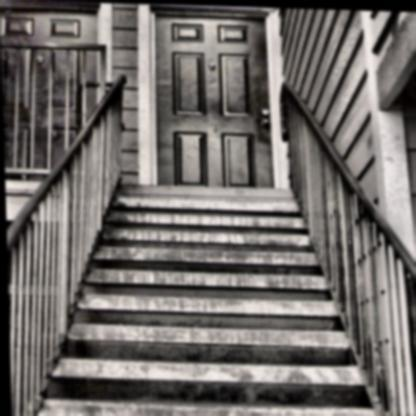stair: (76, 163, 343, 413)
